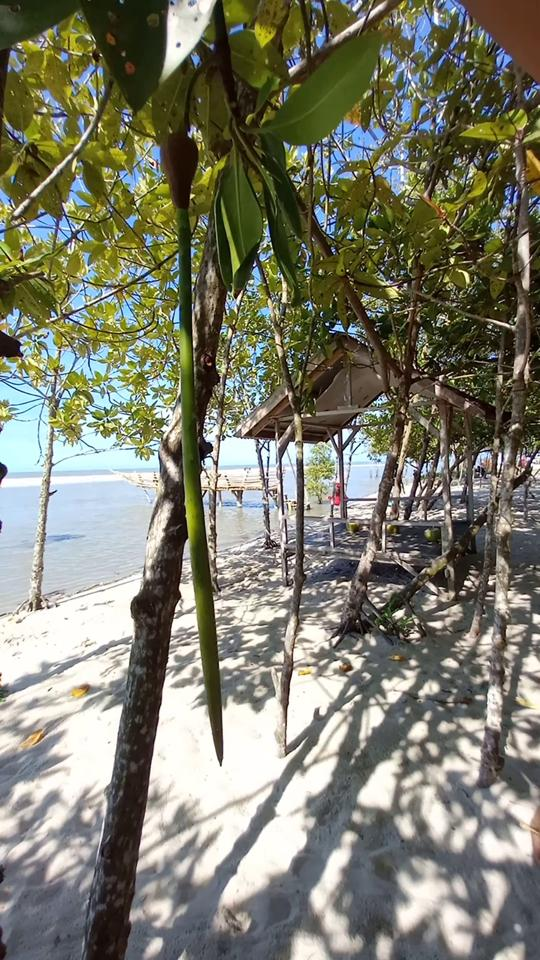setengah matang: (150, 110, 234, 770)
